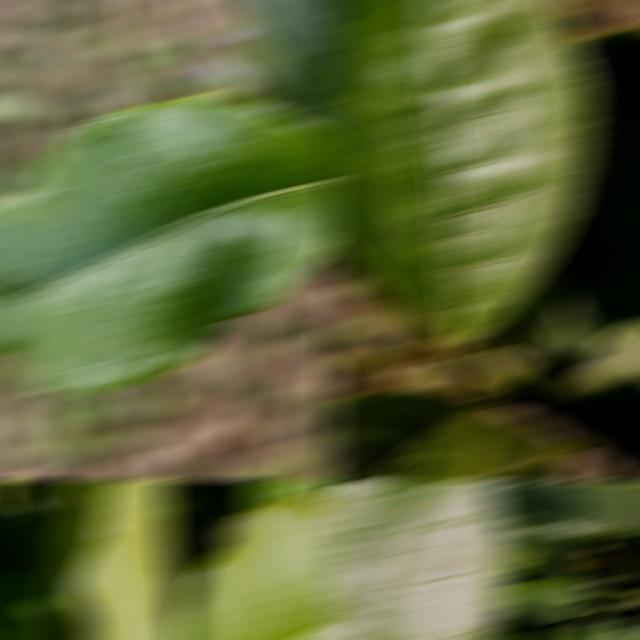Leaf: (0, 94, 339, 392), (325, 2, 594, 355), (482, 27, 640, 390), (325, 482, 514, 638), (171, 494, 339, 638), (53, 482, 183, 638), (325, 391, 500, 478), (231, 2, 339, 138), (539, 329, 640, 465), (482, 482, 640, 532), (325, 245, 373, 349), (244, 482, 339, 504)
